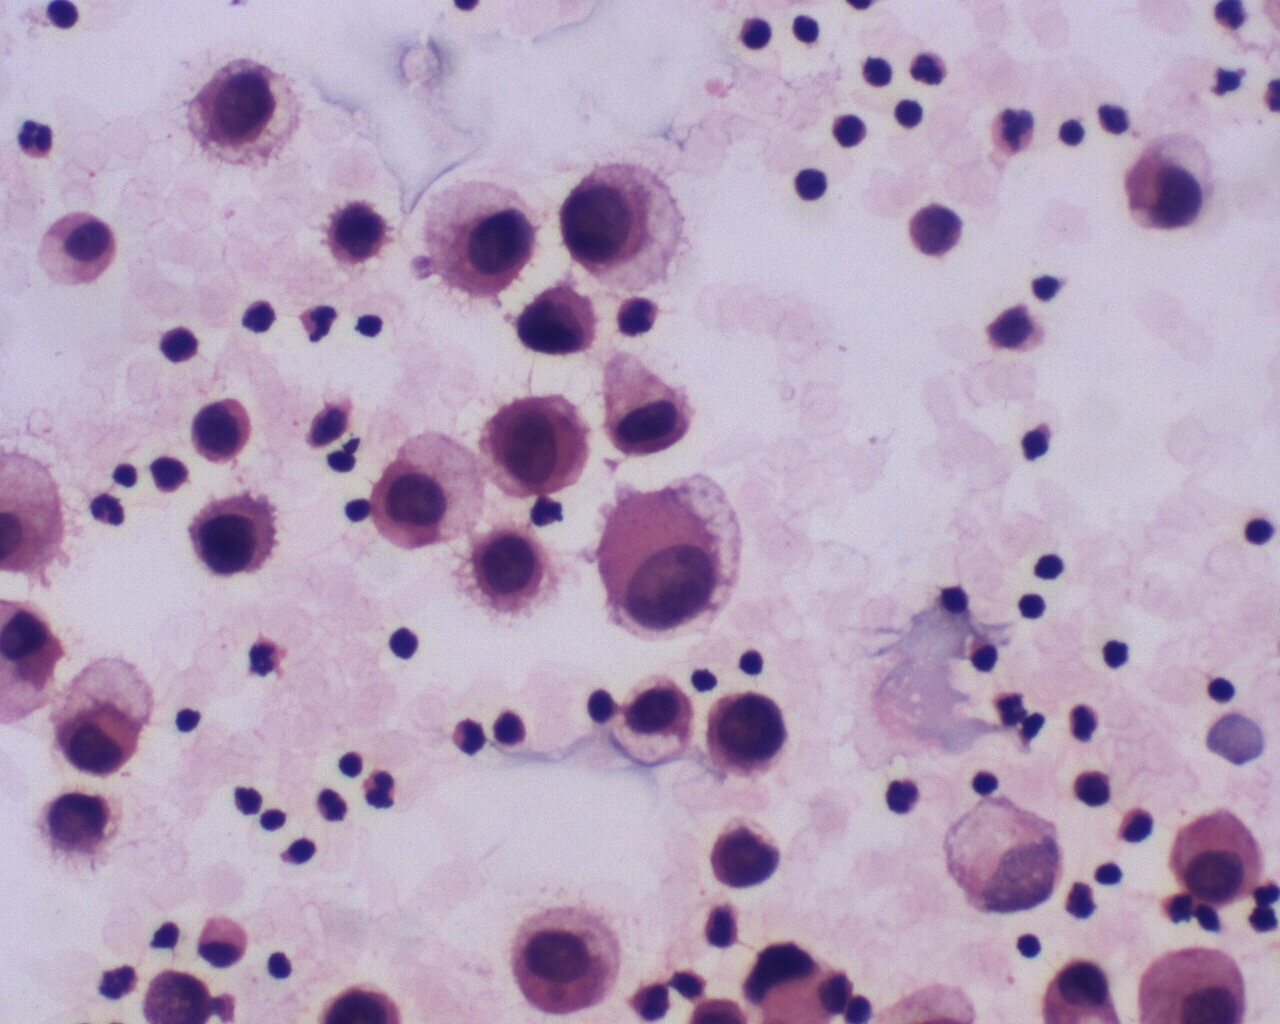ab: (598, 462, 753, 642), (554, 155, 688, 290), (187, 55, 306, 170), (484, 391, 594, 501), (1117, 130, 1226, 237), (184, 483, 287, 584), (708, 686, 794, 778), (467, 521, 552, 614), (515, 280, 604, 364), (319, 197, 397, 272), (707, 820, 784, 895), (189, 397, 259, 467)
lymph: (293, 298, 346, 348), (732, 11, 789, 59), (15, 115, 59, 163), (889, 93, 935, 135), (790, 164, 838, 203), (1100, 632, 1142, 676), (385, 621, 424, 662), (1207, 667, 1246, 709), (964, 765, 1007, 799), (1029, 544, 1066, 584), (1240, 510, 1280, 546), (169, 697, 203, 731)
meso: (502, 900, 628, 1020), (1168, 805, 1265, 907), (33, 206, 120, 294), (191, 912, 255, 972)
neutro: (1063, 695, 1106, 744), (448, 712, 491, 759), (359, 770, 401, 815), (908, 47, 953, 89), (85, 490, 131, 530)
